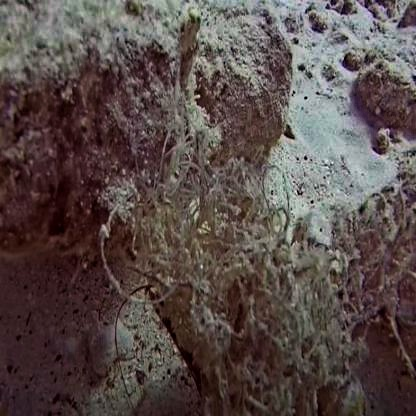net: (134, 124, 314, 416)
